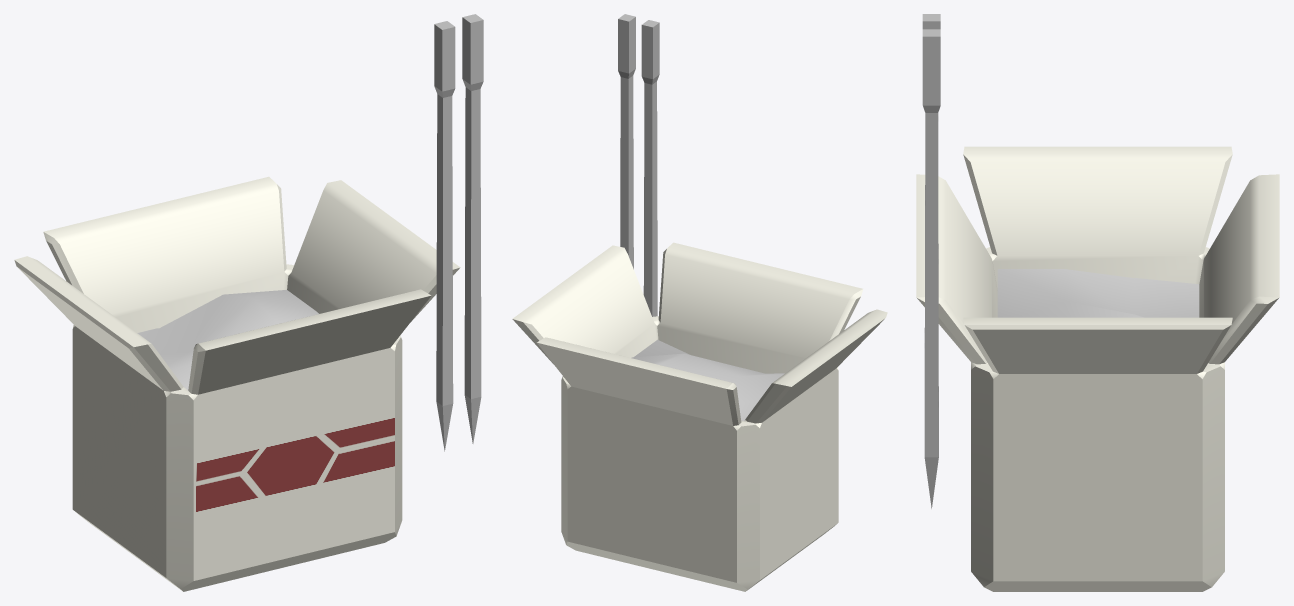
File: Noodles + Chopsticks.FBX
3 views of the same model, side by side, from view 1: azimuth 30°, elevation 25°; view 2: azimuth 150°, elevation 25°; view 3: azimuth 270°, elevation 25° (orthographic). The views are drawn at different scales.
Visible parts, largest first — view 1: Box029, Box030, Box031, Plane004; view 2: Box029, Box031, Box030, Plane004; view 3: Box029, Plane004, Box030.
Boxes of the visible parts, x1=… form: Box029: x1=14, y1=176, x2=460, y2=591; Box030: x1=462, y1=14, x2=483, y2=443; Box031: x1=434, y1=21, x2=455, y2=451; Plane004: x1=137, y1=290, x2=318, y2=390; Box029: x1=512, y1=242, x2=887, y2=591; Box031: x1=641, y1=20, x2=659, y2=316; Box030: x1=618, y1=14, x2=635, y2=269; Plane004: x1=631, y1=339, x2=784, y2=420; Box029: x1=916, y1=146, x2=1279, y2=591; Plane004: x1=997, y1=269, x2=1199, y2=317; Box030: x1=922, y1=29, x2=940, y2=508.
Size of the model in its own units: 84.57 by 129 by 71.58.
